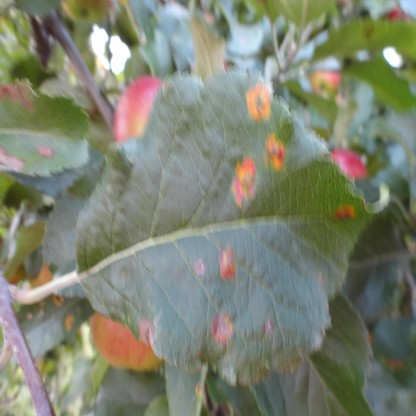rust: (232, 159, 255, 203), (246, 85, 271, 121), (265, 134, 285, 170), (212, 313, 233, 342), (220, 245, 236, 280), (0, 145, 23, 169), (139, 318, 153, 345), (333, 205, 354, 219), (37, 144, 56, 158), (194, 259, 205, 277), (51, 293, 62, 305), (64, 315, 72, 330), (265, 320, 273, 335), (195, 381, 200, 395)
